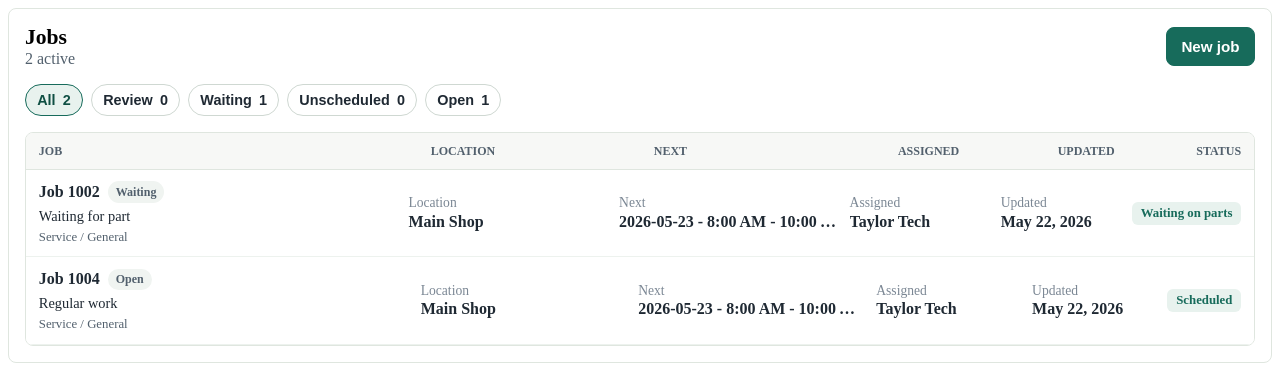
Test: JobsQueuePanel › filters the worklist without dedicating space to empty buckets
The width and height of the screenshot is (1280, 380).
Click the button "Waiting 1": (234, 100) [188,84,279,116]
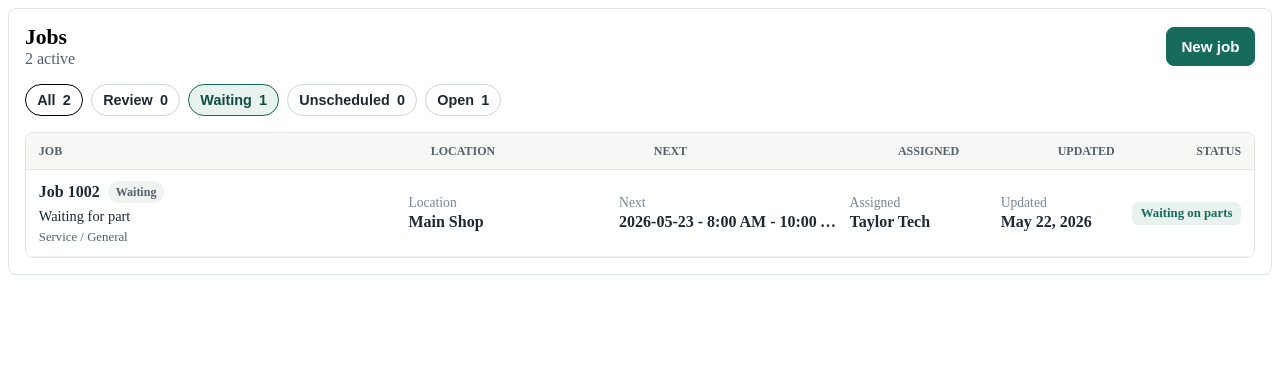
expect the text "Waiting for part" is shown: met, box [39,208,130,224]
expect the button "Regular work" is gone: met
Click the button "Review 0": (136, 100) [91,84,180,116]
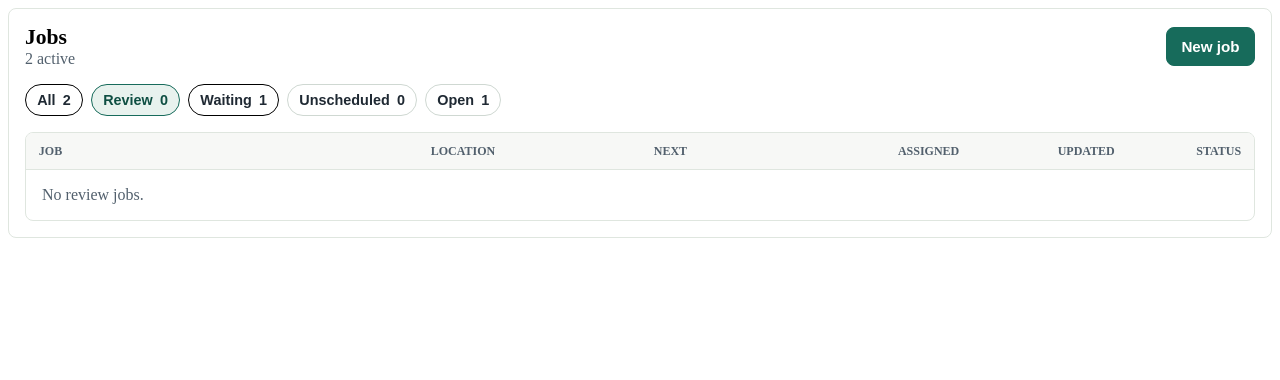
expect the text "No review jobs." is shown: met, box [42,186,144,203]
